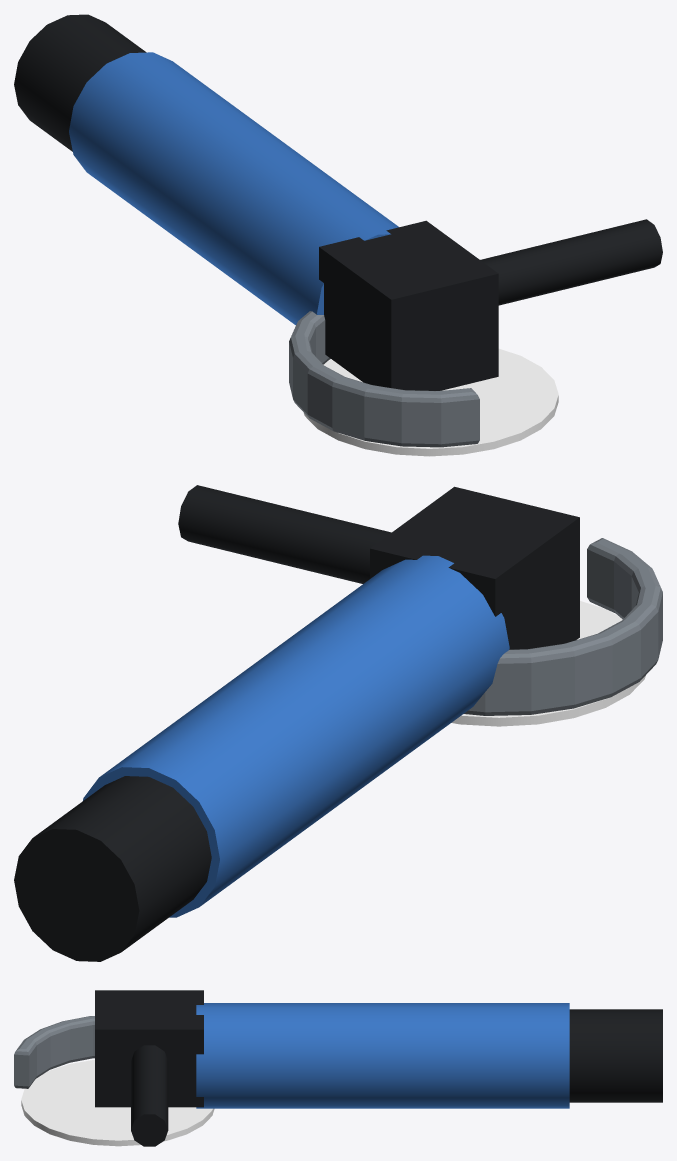
The model's file is toolkit--angleGrinder.glb.
The picture shows the model from 3 angles, top to bottom: view 1: azimuth 30°, elevation 25°; view 2: azimuth 150°, elevation 25°; view 3: azimuth 270°, elevation 25°; orthographic projection. The views are drawn at different scales.
Visible parts, largest first — view 1: angleGrinder:shell, guard, disc; view 2: angleGrinder:shell, guard, disc; view 3: angleGrinder:shell, disc, guard.
Part boxes in pixels (left/top/right/bottom): angleGrinder:shell: left=14, top=14, right=662, bottom=390; guard: left=289, top=311, right=479, bottom=447; disc: left=303, top=348, right=558, bottom=456; angleGrinder:shell: left=14, top=485, right=579, bottom=961; guard: left=464, top=538, right=662, bottom=715; disc: left=451, top=601, right=645, bottom=726; angleGrinder:shell: left=95, top=990, right=662, bottom=1146; disc: left=21, top=1060, right=214, bottom=1146; guard: left=14, top=1016, right=94, bottom=1088.
Size of the model in its own units: 0.203 by 0.069 by 0.4172.
